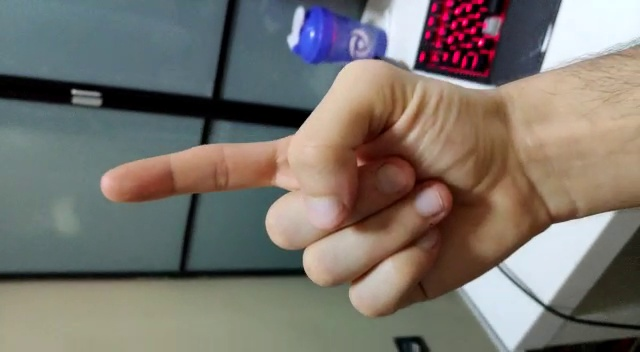One: (78, 125, 332, 221)
